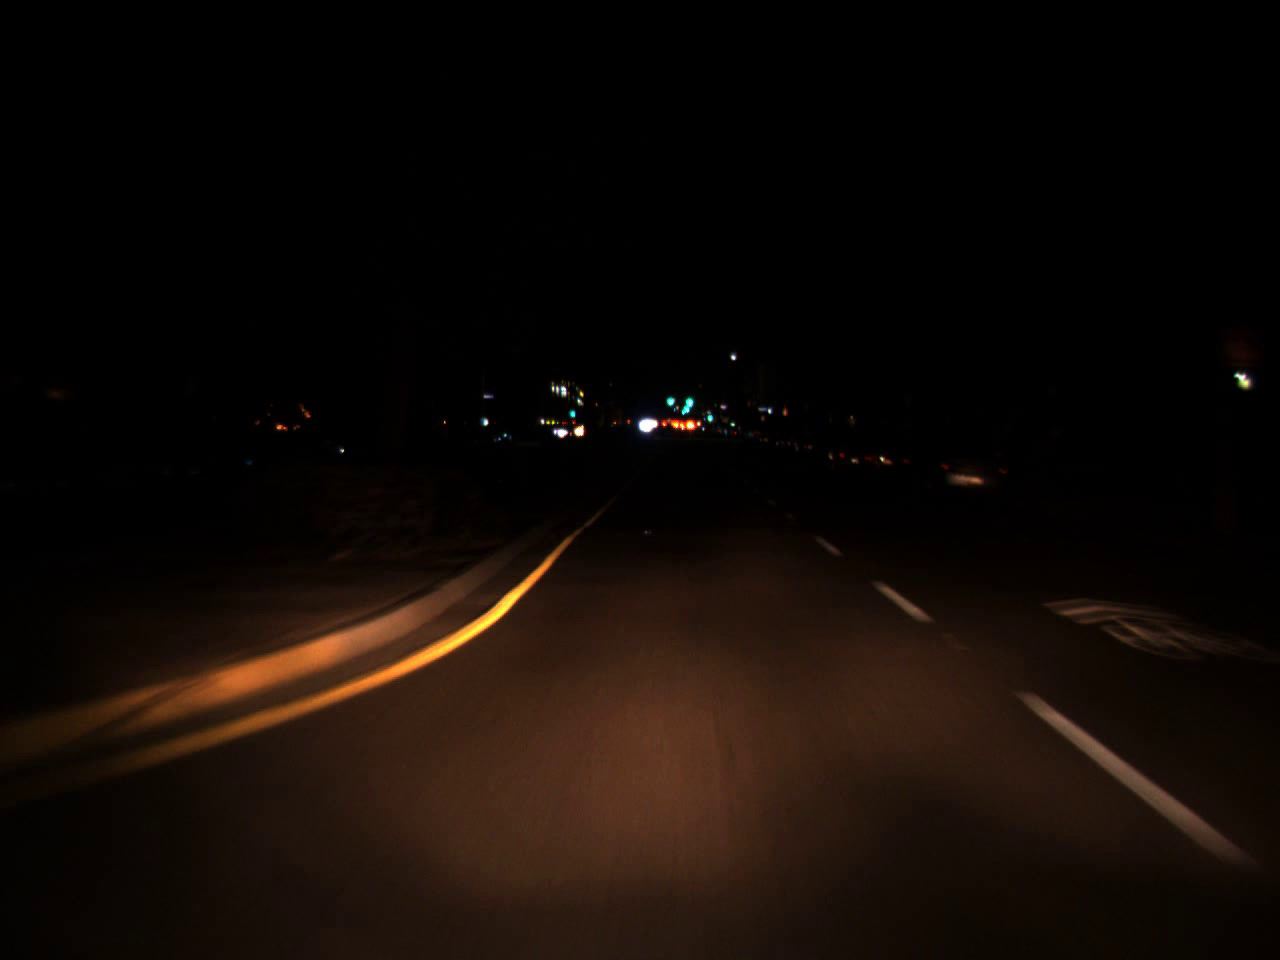go: (679, 383, 695, 413), (662, 387, 674, 408), (569, 404, 577, 419), (706, 408, 713, 423)
